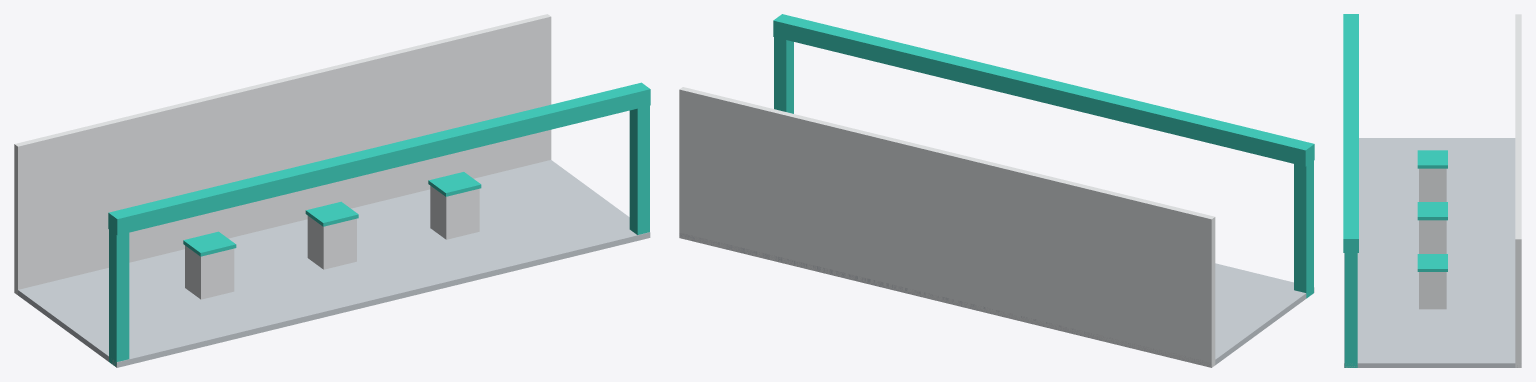
3 views of the same model, side by side, from view 1: azimuth 30°, elevation 25°; view 2: azimuth 150°, elevation 25°; view 3: azimuth 270°, elevation 25° (orthographic). The views are drawn at different scales.
Visible parts, largest first — view 1: Exhibition Booth Concept; view 2: Exhibition Booth Concept; view 3: Exhibition Booth Concept.
Part boxes in pixels (bbox=[...]): Exhibition Booth Concept: bbox=[14, 14, 650, 367]; Exhibition Booth Concept: bbox=[679, 14, 1314, 367]; Exhibition Booth Concept: bbox=[1343, 14, 1521, 367].
Bounding box in the file's own units: 12 × 3.2 × 4.02.
